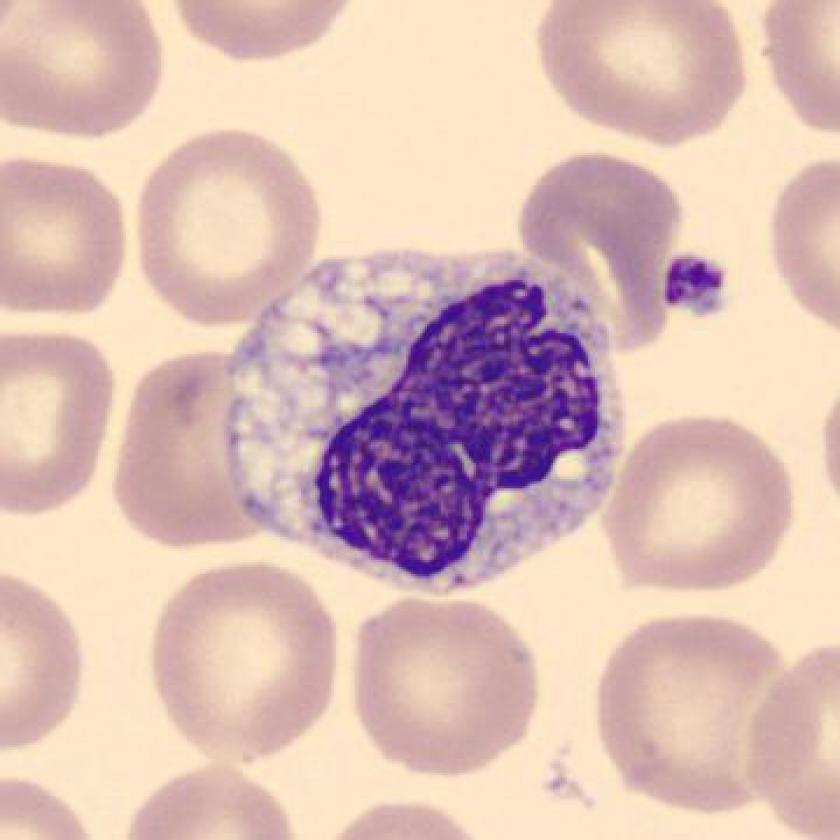monocyte: (211, 228, 633, 614)
